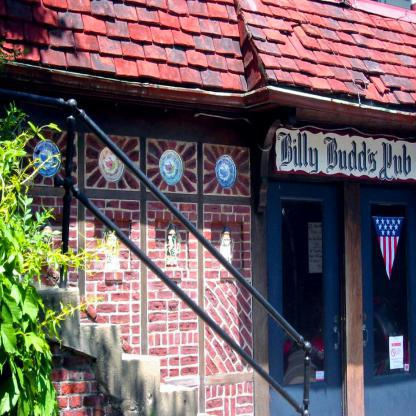door: (270, 188, 342, 416), (358, 180, 415, 415)
